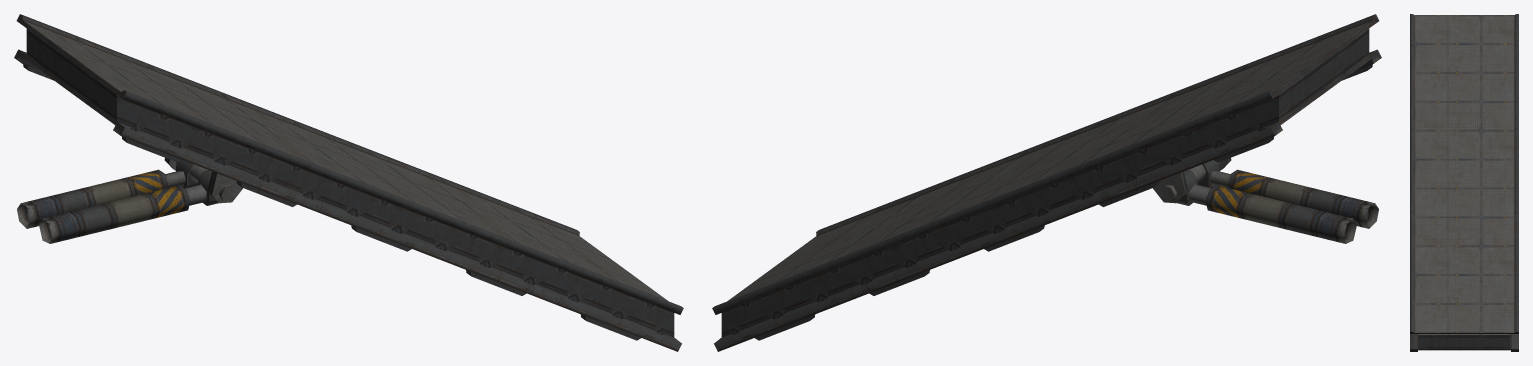
File: Wall1_Ramp1_L2.fbx
The picture shows the model from 3 angles, left to right: view 1: azimuth 30°, elevation 25°; view 2: azimuth 150°, elevation 25°; view 3: azimuth 270°, elevation 25°; orthographic projection. The views are drawn at different scales.
Visible parts, largest first — view 1: polySurface908; view 2: polySurface908; view 3: polySurface908.
Part boxes in pixels (x1=…): polySurface908: x1=14, y1=14, x2=683, y2=351; polySurface908: x1=712, y1=14, x2=1381, y2=351; polySurface908: x1=1410, y1=14, x2=1518, y2=351.
Size of the model in its own units: 1604 by 1015 by 499.
